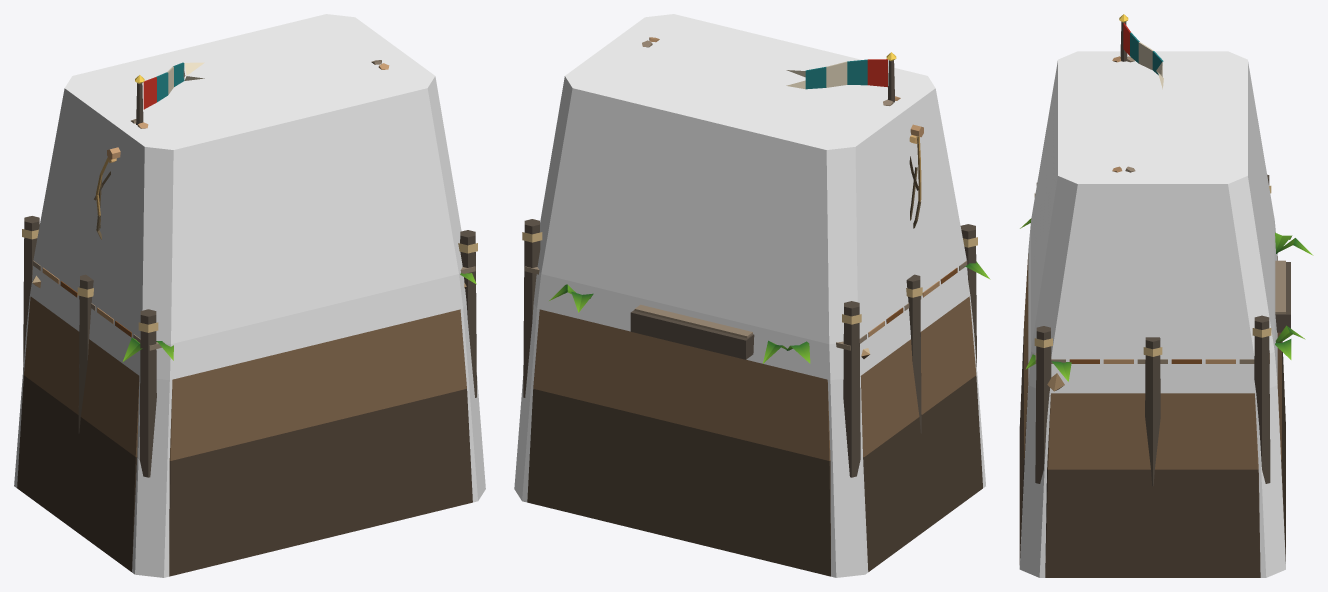
Rendered from coastal_buccaneer_net_mending_pier.glb.
3 renders of one model, left to right at view 1: azimuth 30°, elevation 25°; view 2: azimuth 150°, elevation 25°; view 3: azimuth 270°, elevation 25°, orthographic. The views are drawn at different scales.
Parts seen in each view (by area): view 1: col_netpier_base, coastal_buccaneer_net_mending_pier; view 2: col_netpier_base, coastal_buccaneer_net_mending_pier; view 3: col_netpier_base, coastal_buccaneer_net_mending_pier.
Part boxes in pixels (left/top/right/bottom): col_netpier_base: left=14, top=14, right=485, bottom=577; coastal_buccaneer_net_mending_pier: left=17, top=60, right=477, bottom=576; col_netpier_base: left=514, top=14, right=985, bottom=577; coastal_buccaneer_net_mending_pier: left=522, top=37, right=990, bottom=576; col_netpier_base: left=1019, top=51, right=1285, bottom=577; coastal_buccaneer_net_mending_pier: left=1019, top=14, right=1313, bottom=577.
Size of the model in its own units: 5.58 by 6.64 by 4.15.
